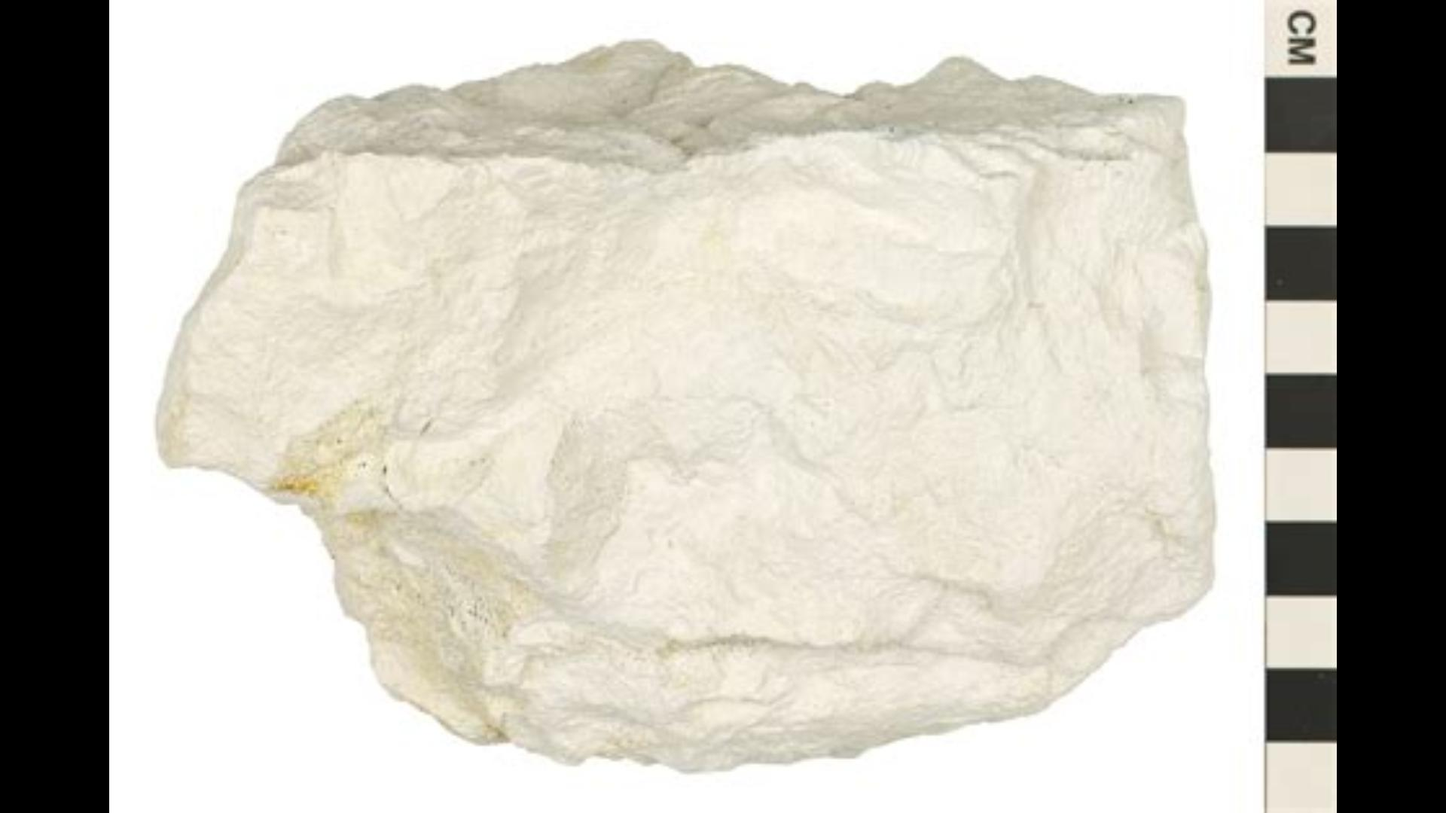rock: (158, 44, 1210, 766)
